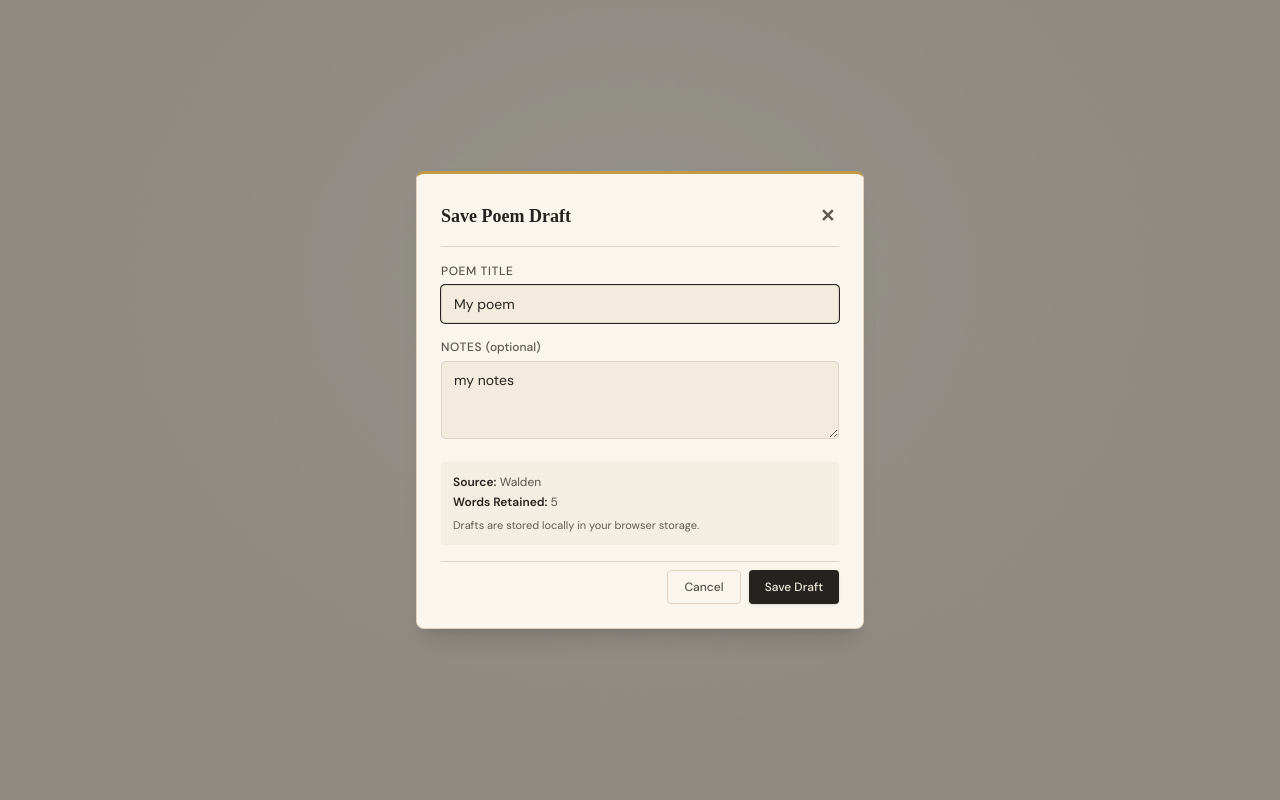
Test case: the save form › puts focus on the pop-up’s button, and closes only the pop-up with it: the form and what was typed stay
The width and height of the screenshot is (1280, 800).
Click the button "Save Draft".
click(794, 587)  # box [749,570,839,604]
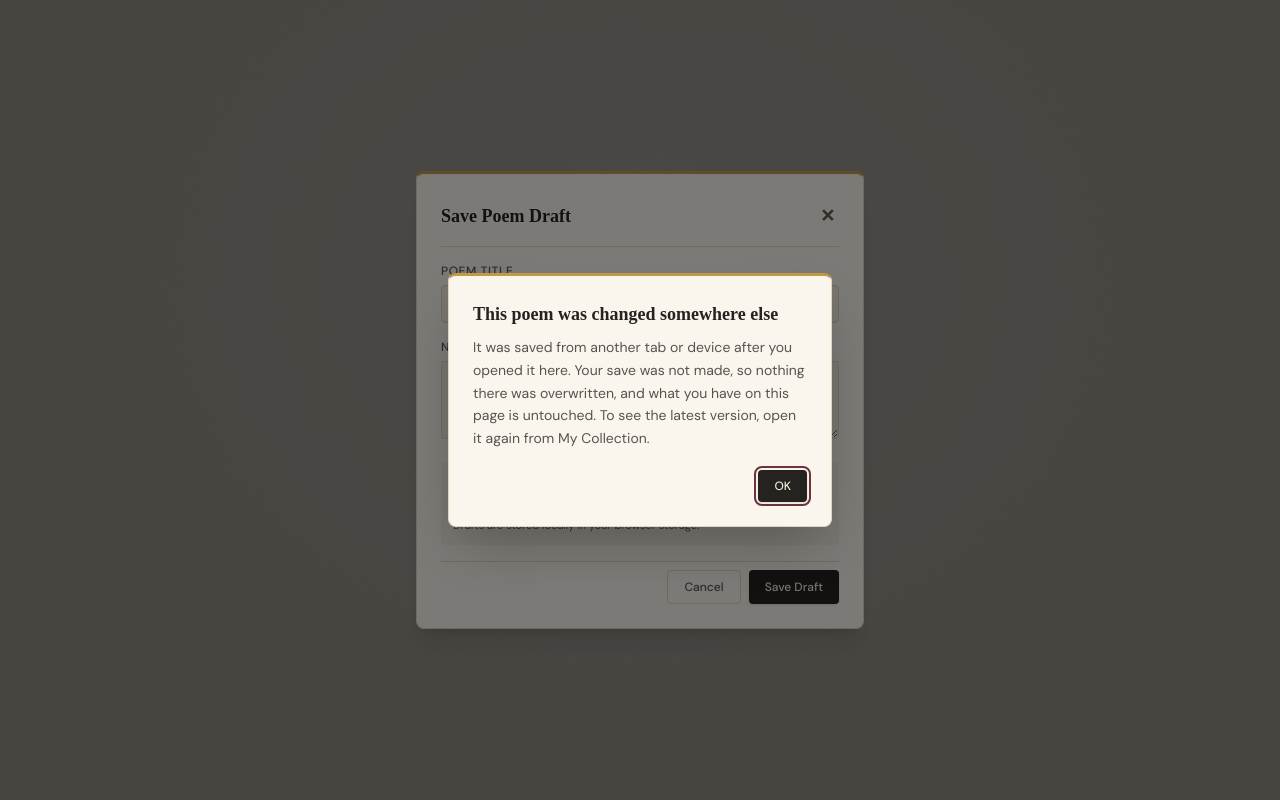
Check: the button "OK" is shown
Click the button "OK".
click(783, 486)  # box [758,470,807,502]
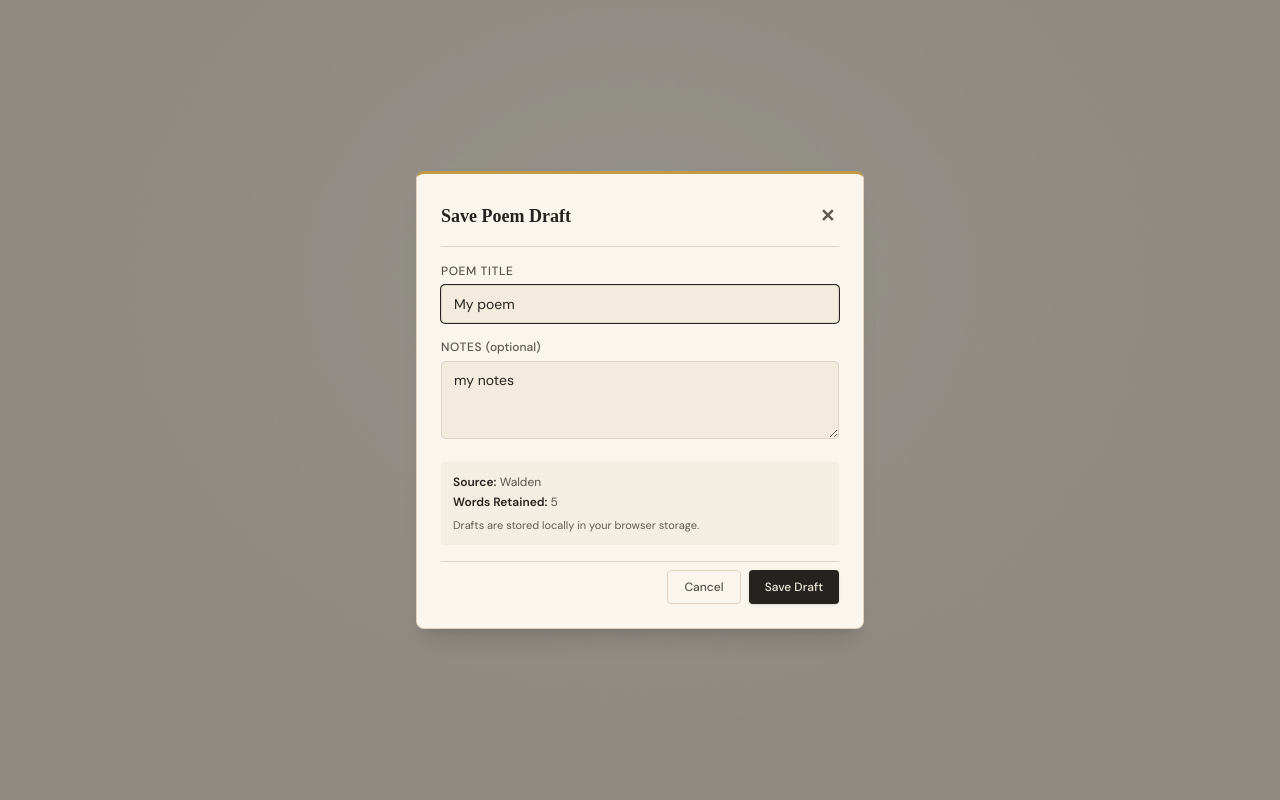
Check: the field labelled "Poem Title" holds "My poem", box [441,285,839,323]
Check: the dialog is gone
